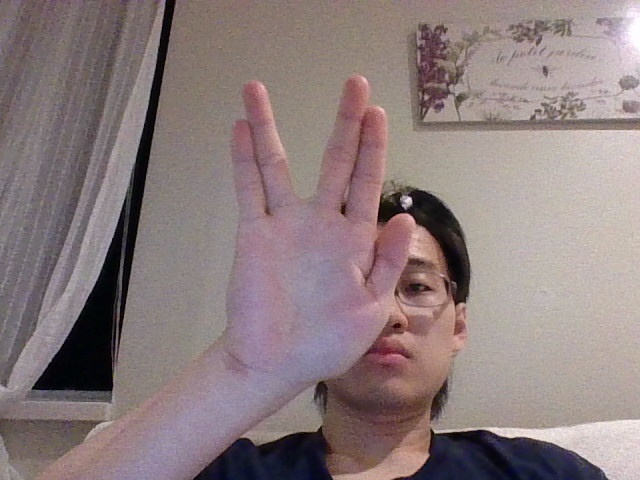LiveLong: (227, 74, 415, 380)
